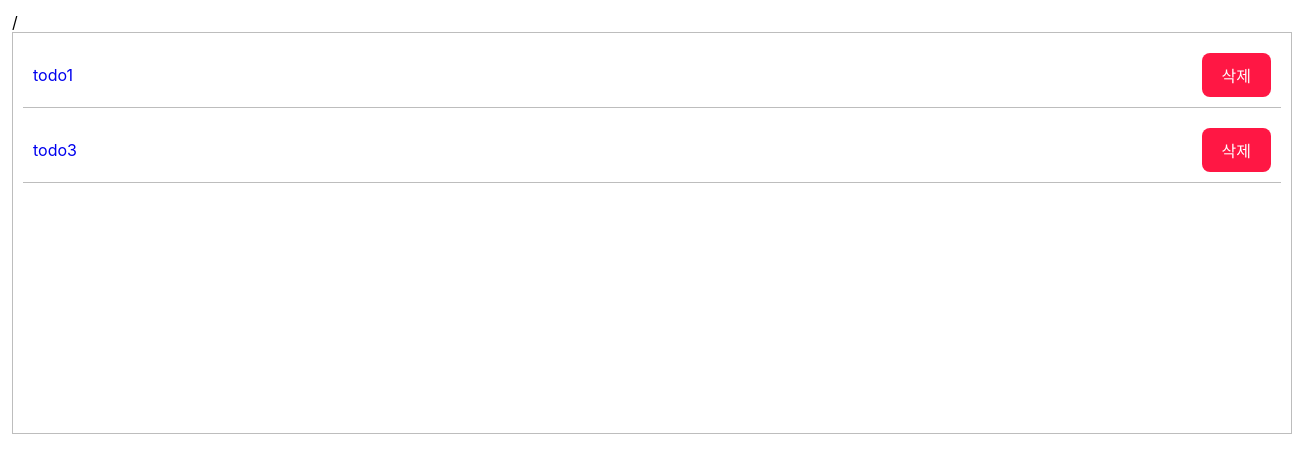
<TodoList /> › move to detail page
The width and height of the screenshot is (1292, 451).
Expected: the text "/" is shown, [12, 12, 18, 32]
What coordinates should you click on to do the following:
click the link "todo1"
I would click on:
 (53, 75)
Its box is [33, 65, 73, 85].
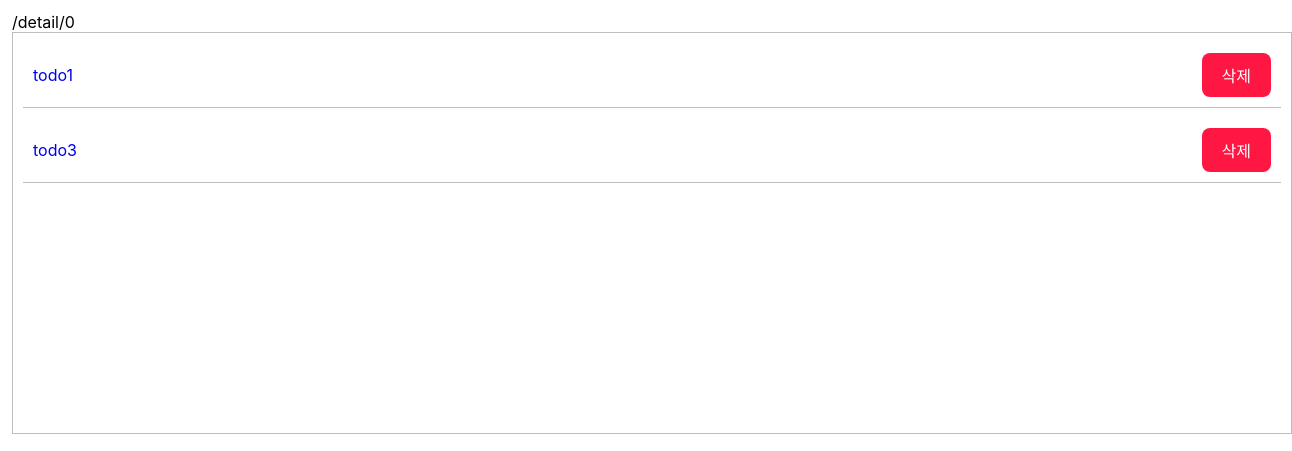
Now the text "/" reads "/detail/0", box [12, 12, 75, 32]
